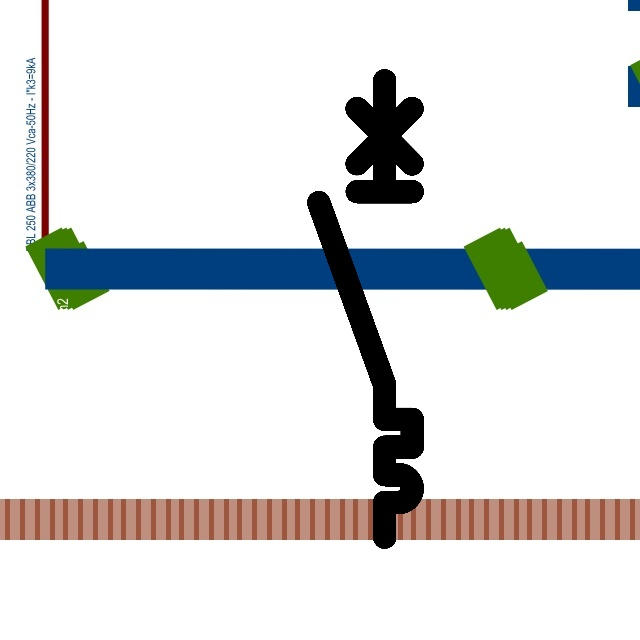interruptor_termomagnetico: (307, 69, 424, 549)
